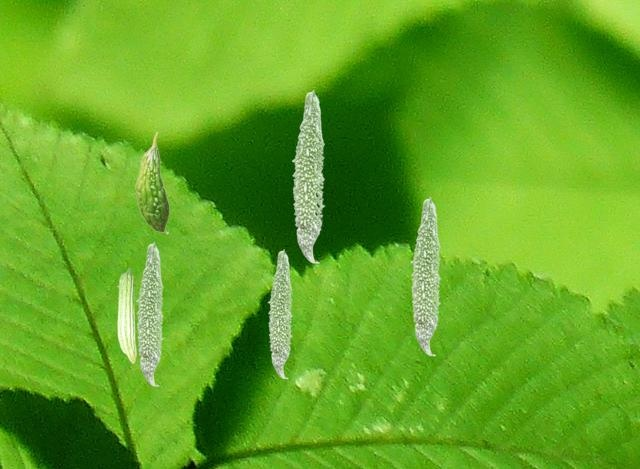ampalaya: (291, 89, 325, 264), (410, 196, 441, 356), (135, 241, 164, 386), (134, 131, 170, 234), (267, 248, 293, 379), (117, 267, 136, 364)
